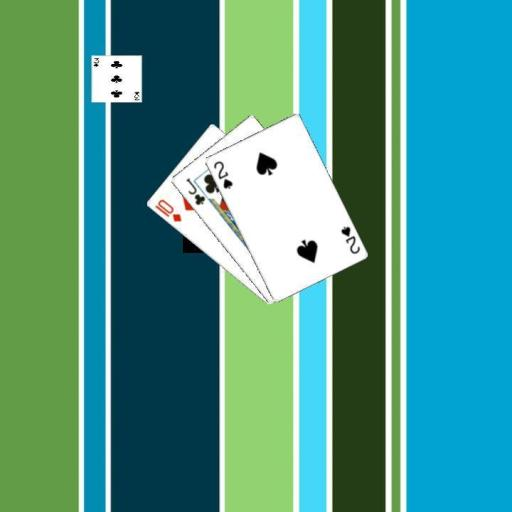card-corner: (151, 196, 183, 224), (210, 158, 234, 190), (337, 224, 361, 256), (183, 175, 206, 207)
